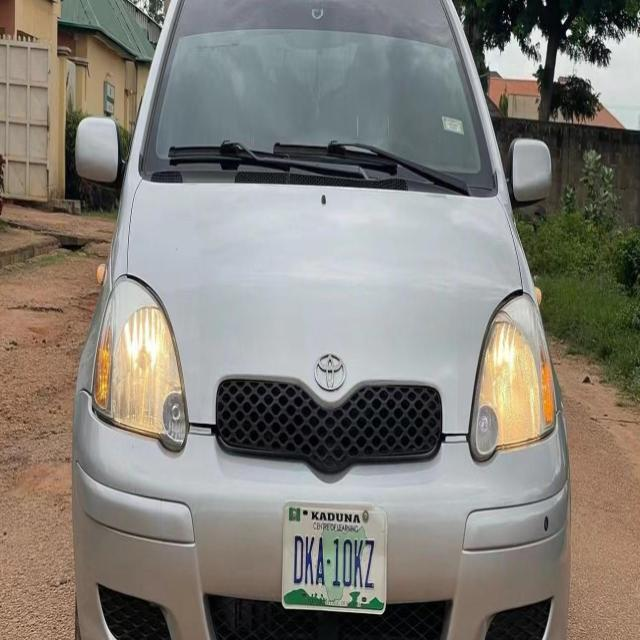Nigerian License Plate - vdataset benjamin-daria: (280, 498, 388, 616)
